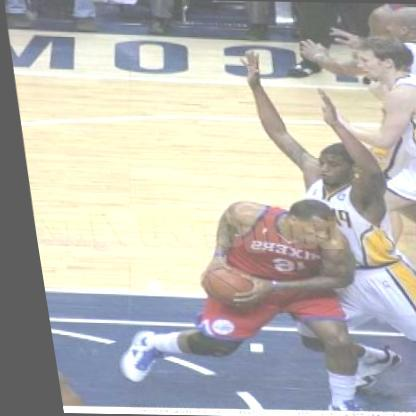basketball: (191, 267, 253, 309)
